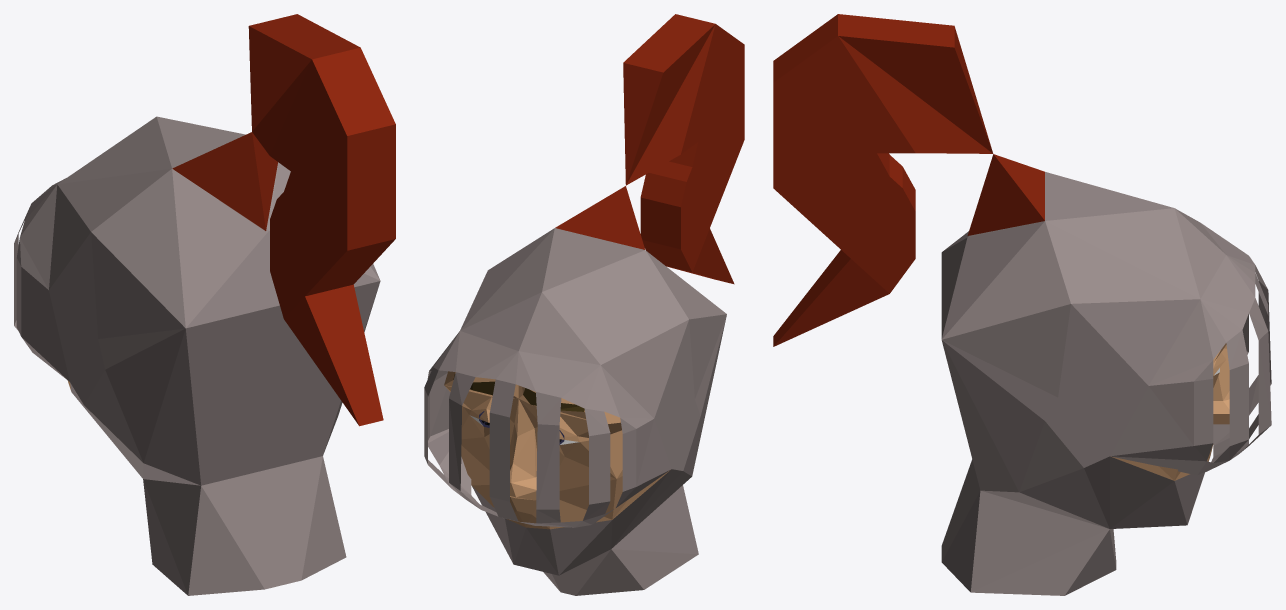
File: npc_chat_sir_tristram_0.obj
3 views of the same model, side by side, from view 1: azimuth 30°, elevation 25°; view 2: azimuth 150°, elevation 25°; view 3: azimuth 270°, elevation 25° (orthographic). The views are drawn at different scales.
Bounding box in the file's own units: 0.6406 × 1.44 × 1.2.
